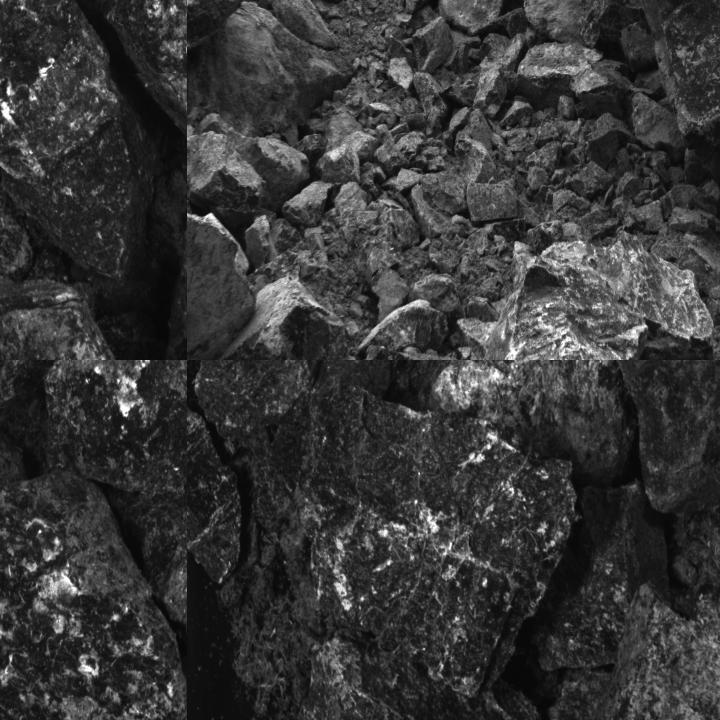stone: (249, 380, 577, 686), (0, 469, 186, 719), (0, 0, 159, 284), (46, 360, 186, 636), (265, 599, 573, 719), (398, 360, 637, 489), (532, 480, 672, 672), (600, 0, 719, 189), (549, 227, 718, 359), (101, 0, 186, 227), (482, 247, 652, 359), (594, 583, 719, 719), (615, 360, 719, 512), (198, 360, 332, 471), (0, 277, 151, 359), (187, 128, 311, 227), (215, 275, 361, 359), (187, 402, 242, 582), (512, 41, 603, 108), (354, 299, 448, 359), (499, 0, 615, 41), (187, 0, 253, 64), (570, 52, 629, 122), (259, 0, 343, 48), (628, 93, 685, 162), (440, 0, 517, 38), (317, 360, 398, 395), (593, 0, 643, 51), (412, 17, 453, 74), (282, 181, 332, 225), (467, 182, 517, 223), (473, 61, 508, 118), (414, 73, 449, 129), (566, 161, 614, 199), (316, 145, 361, 185), (587, 114, 618, 166), (0, 422, 22, 486), (525, 141, 561, 178), (387, 57, 412, 93), (683, 148, 709, 182), (361, 344, 419, 359), (406, 0, 446, 17)
